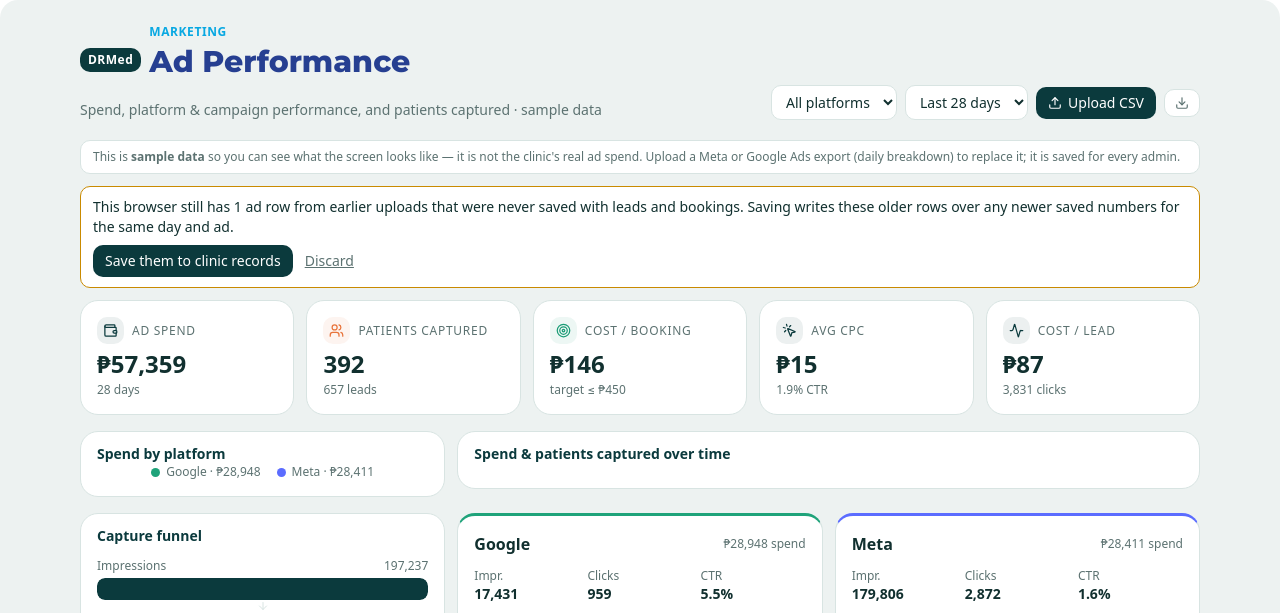
Scenario: one-time move of this browser's old rows › keeps the browser's copy when the save is ok but nothing was saved
Click the button "Save them to clinic records" at (193, 261), box [93,245,293,277]
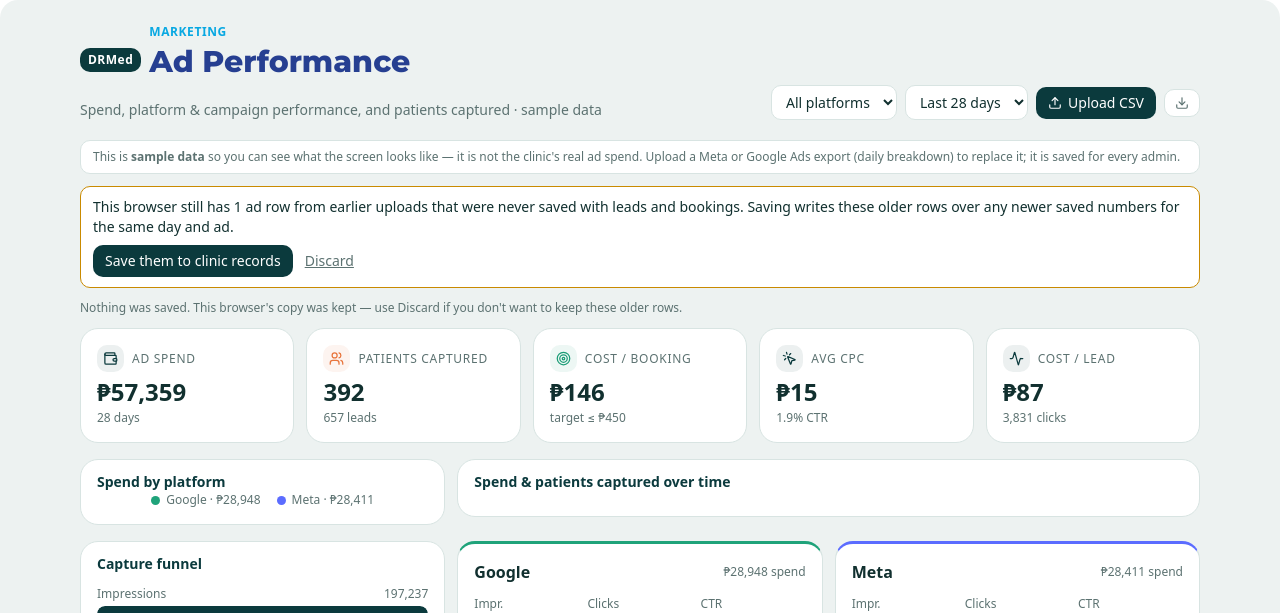
Expected: the element named "only in this browser" is shown, [80,186,1200,288]
Expected: the message shows "Nothing was saved", [80,299,682,316]
